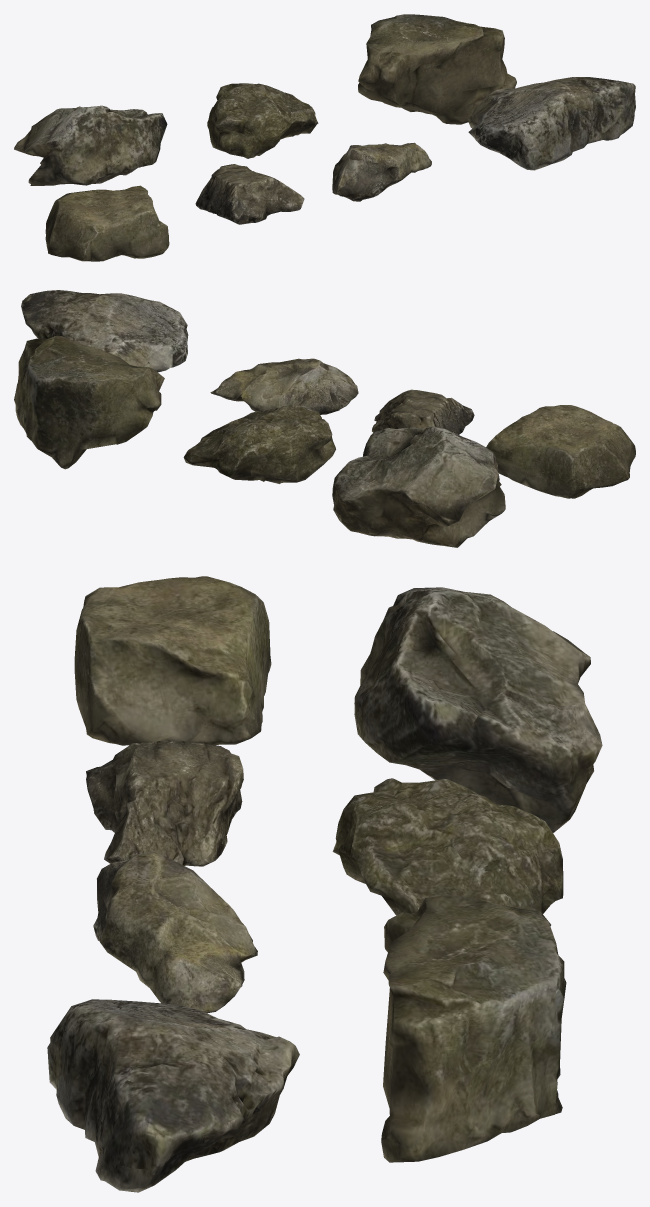
The model's file is rock_moss_set_02.glb.
3 renders of one model, top to bottom at view 1: azimuth 30°, elevation 25°; view 2: azimuth 150°, elevation 25°; view 3: azimuth 270°, elevation 25°, orthographic. The views are drawn at different scales.
Visible parts, largest first — view 1: rock_moss_set_02_rock13, rock_moss_set_02_rock10, rock_moss_set_02_rock11, rock_moss_set_02_rock07, rock_moss_set_02_rock12, rock_moss_set_02_rock08, rock_moss_set_02_rock09; view 2: rock_moss_set_02_rock11, rock_moss_set_02_rock13, rock_moss_set_02_rock07, rock_moss_set_02_rock10, rock_moss_set_02_rock12, rock_moss_set_02_rock09, rock_moss_set_02_rock08; view 3: rock_moss_set_02_rock13, rock_moss_set_02_rock11, rock_moss_set_02_rock10, rock_moss_set_02_rock07, rock_moss_set_02_rock12, rock_moss_set_02_rock09, rock_moss_set_02_rock08.
Boxes of the visible parts, box(x1,y1,x2,y2) form: rock_moss_set_02_rock13: box(358, 14, 516, 124); rock_moss_set_02_rock10: box(468, 77, 635, 170); rock_moss_set_02_rock11: box(14, 105, 167, 185); rock_moss_set_02_rock07: box(45, 185, 169, 261); rock_moss_set_02_rock12: box(207, 83, 318, 158); rock_moss_set_02_rock08: box(195, 164, 304, 224); rock_moss_set_02_rock09: box(332, 142, 431, 201); rock_moss_set_02_rock11: box(332, 426, 505, 547); rock_moss_set_02_rock13: box(14, 336, 164, 469); rock_moss_set_02_rock07: box(486, 405, 635, 498); rock_moss_set_02_rock10: box(21, 290, 188, 372); rock_moss_set_02_rock12: box(183, 405, 335, 483); rock_moss_set_02_rock09: box(210, 358, 358, 414); rock_moss_set_02_rock08: box(372, 389, 474, 434); rock_moss_set_02_rock13: box(381, 894, 566, 1162); rock_moss_set_02_rock11: box(354, 587, 602, 832); rock_moss_set_02_rock10: box(47, 999, 299, 1192); rock_moss_set_02_rock07: box(74, 576, 271, 745); rock_moss_set_02_rock12: box(332, 778, 563, 925); rock_moss_set_02_rock09: box(93, 851, 257, 1013); rock_moss_set_02_rock08: box(86, 740, 243, 866).
Bounding box in the file's own units: 8.28 × 1.36 × 3.41.
1 material, 1 textured.
